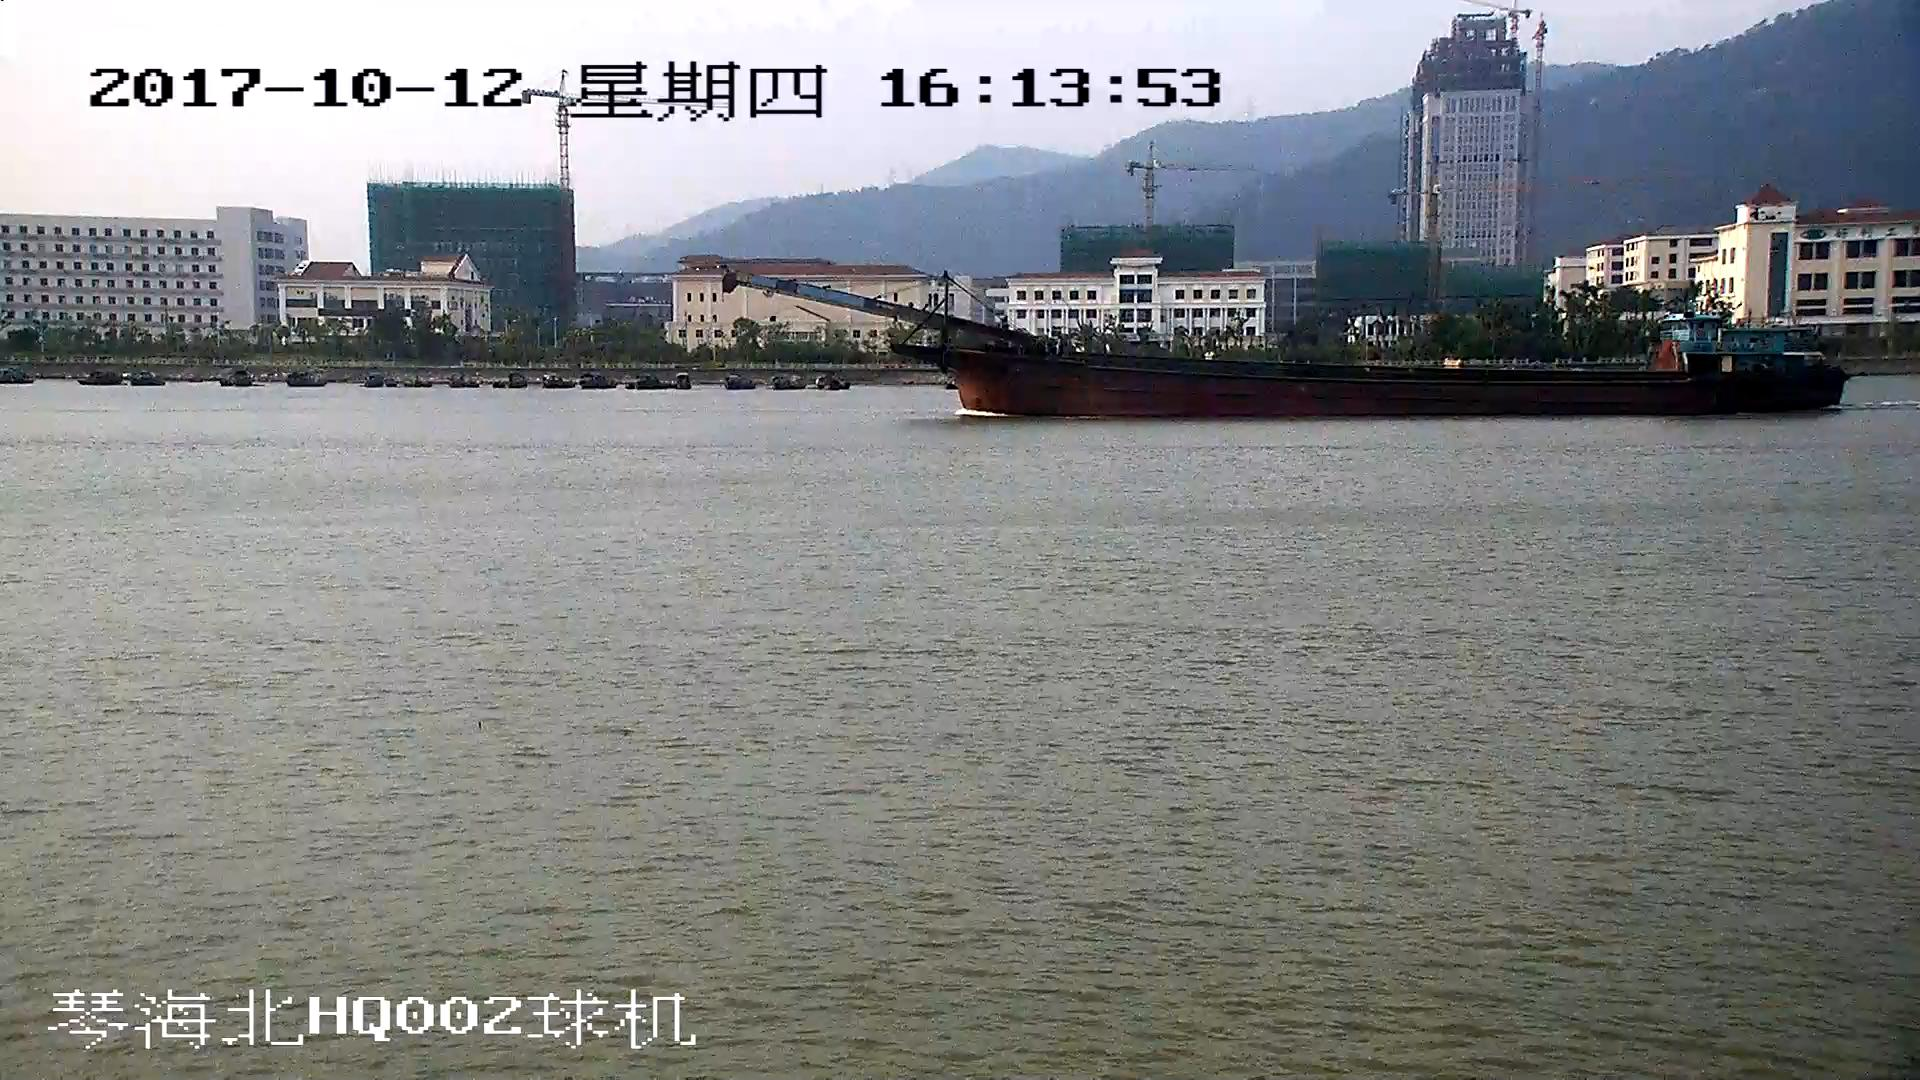bulk cargo carrier: (726, 276, 1843, 411)
